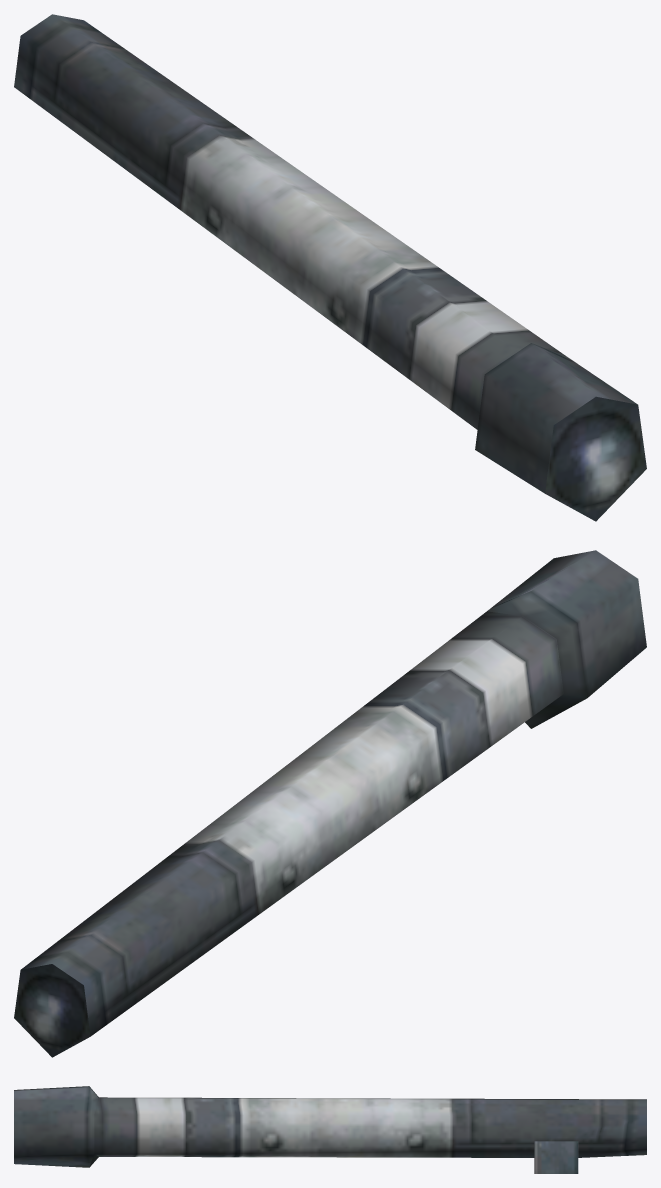
Rendered from wp_scope_renegade_l1.fbx.
The picture shows the model from 3 angles, top to bottom: view 1: azimuth 30°, elevation 25°; view 2: azimuth 150°, elevation 25°; view 3: azimuth 270°, elevation 25°; orthographic projection. The views are drawn at different scales.
Visible parts, largest first — view 1: mesh_node; view 2: mesh_node; view 3: mesh_node.
Part boxes in pixels (<box>): mesh_node: <box>14,14,646,521</box>; mesh_node: <box>14,550,646,1057</box>; mesh_node: <box>14,1086,646,1173</box>.
Bounding box in the file's own units: 0.0347 × 0.0323 × 0.231.
Materials: 1 (1 with a texture image).
